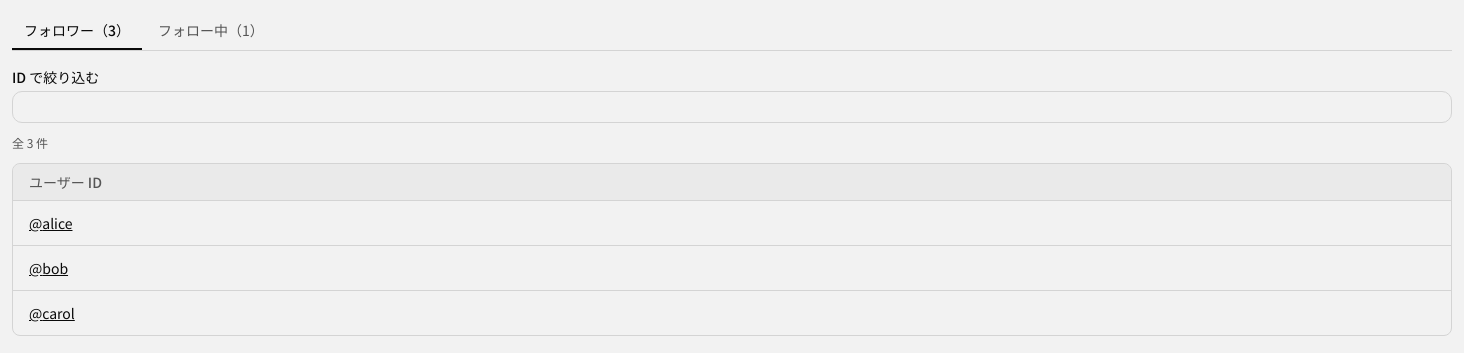
Test case: FollowerListView › フォロー中タブに切り替えると全件を表示し、aria-selected が移る（US2）
Click the tab "フォロー中（1）" at (211, 31), box [146,12,276,50]
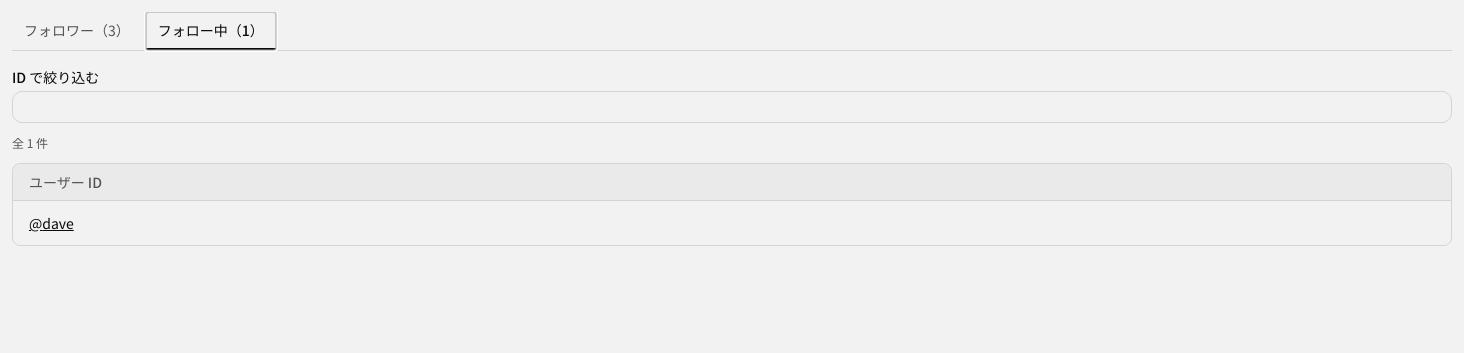
expect the link "@dave" is shown: met, box [29,213,74,233]
